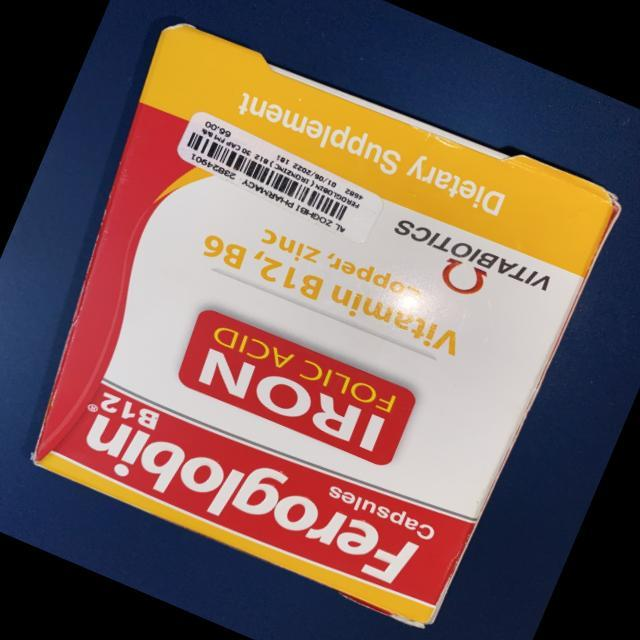Medicine Name: (66, 401, 430, 596)
